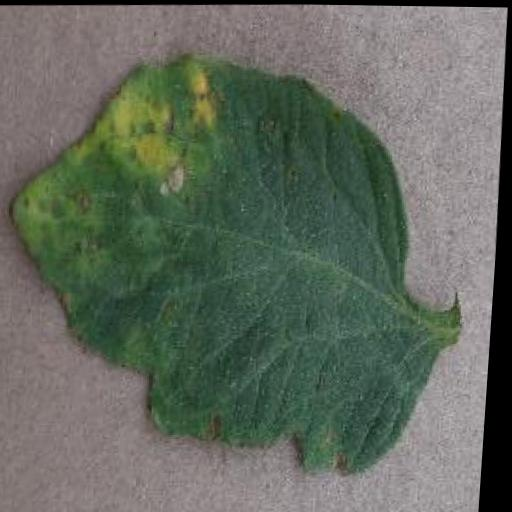Bacterial Spot: (0, 46, 457, 483)
